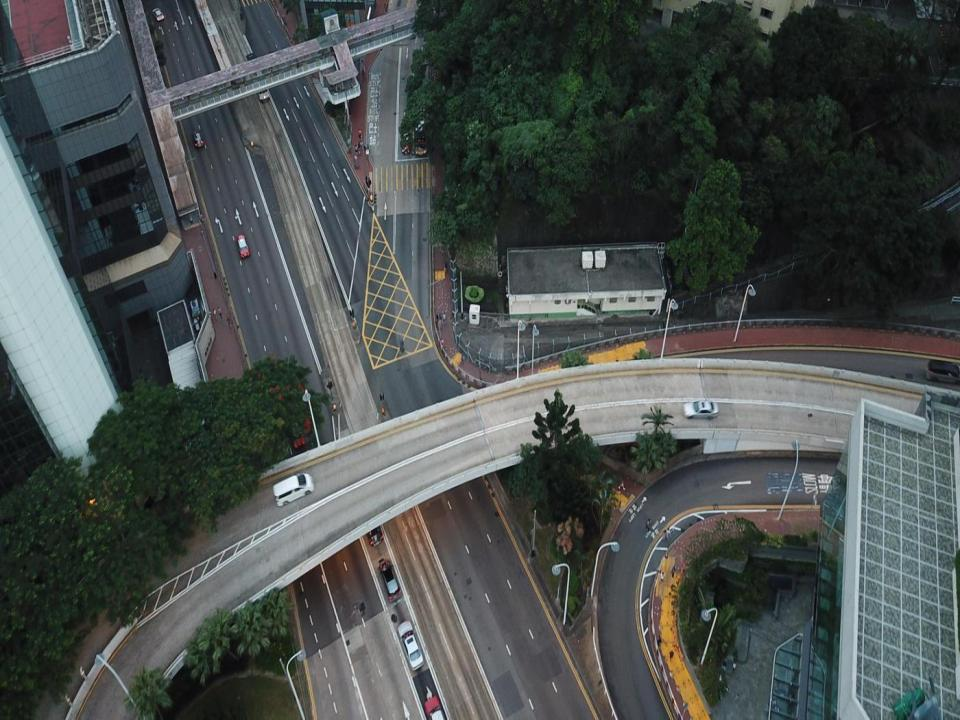bus: (413, 106, 428, 157)
car: (397, 618, 424, 670), (378, 556, 401, 600), (360, 502, 383, 546), (682, 401, 720, 419), (424, 695, 446, 719), (399, 120, 411, 156), (236, 233, 249, 261), (256, 72, 269, 100), (192, 128, 206, 149), (152, 5, 164, 24)
van: (274, 471, 316, 508)
